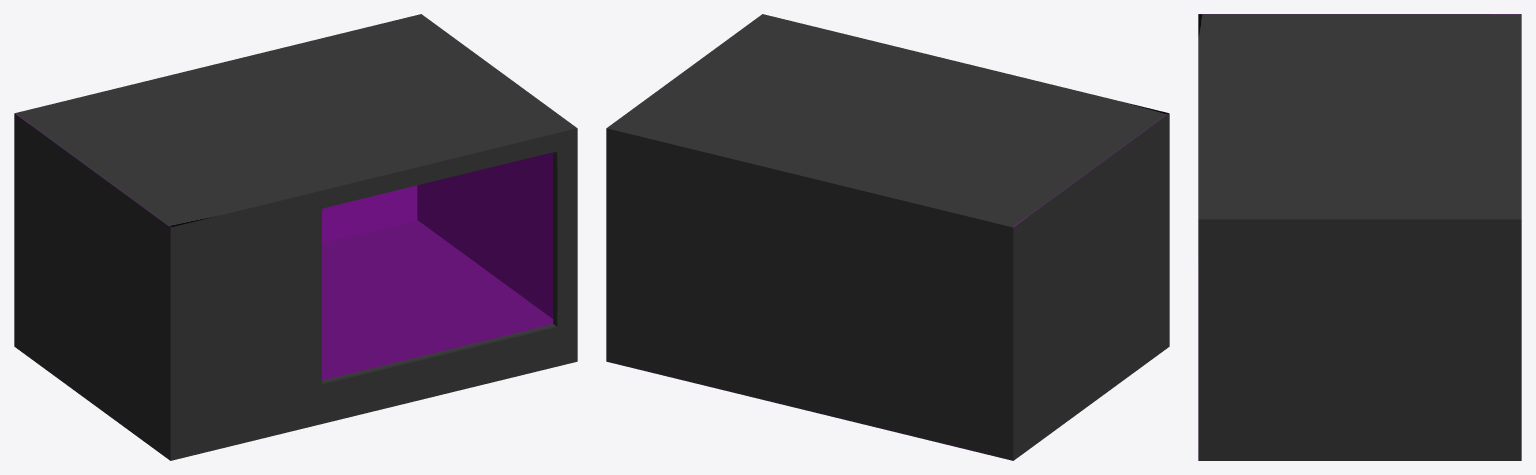
Rendered from delosReyes_bedroom.glb.
The picture shows the model from 3 angles, left to right: view 1: azimuth 30°, elevation 25°; view 2: azimuth 150°, elevation 25°; view 3: azimuth 270°, elevation 25°; orthographic projection. The views are drawn at different scales.
Parts seen in each view (by area): view 1: bedroom; view 2: bedroom; view 3: bedroom.
Part boxes in pixels (x1,y1,x2,y2): bedroom: (14, 14, 577, 460); bedroom: (606, 14, 1169, 460); bedroom: (1198, 14, 1521, 460).
Size of the model in its own units: 60.2 by 33 by 40.
1 material, 1 textured.
